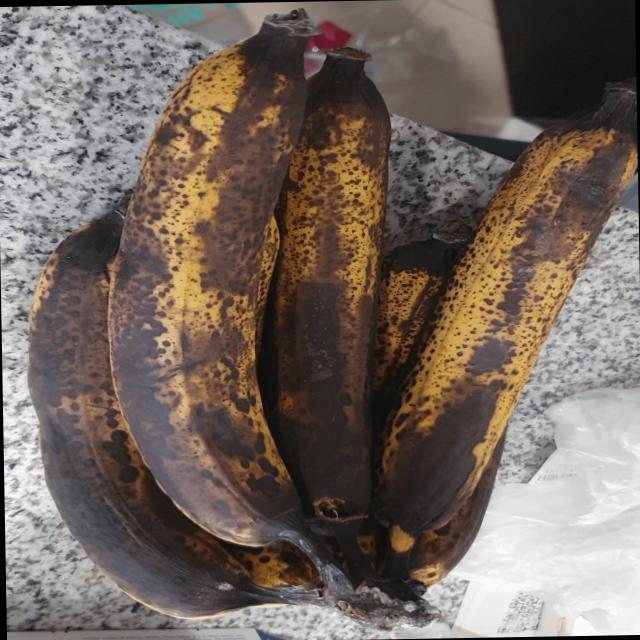banana_peel: (1, 1, 638, 633)
